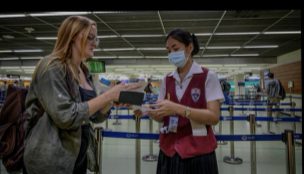with_mask: (165, 43, 190, 69)
without_mask: (74, 28, 98, 58)
